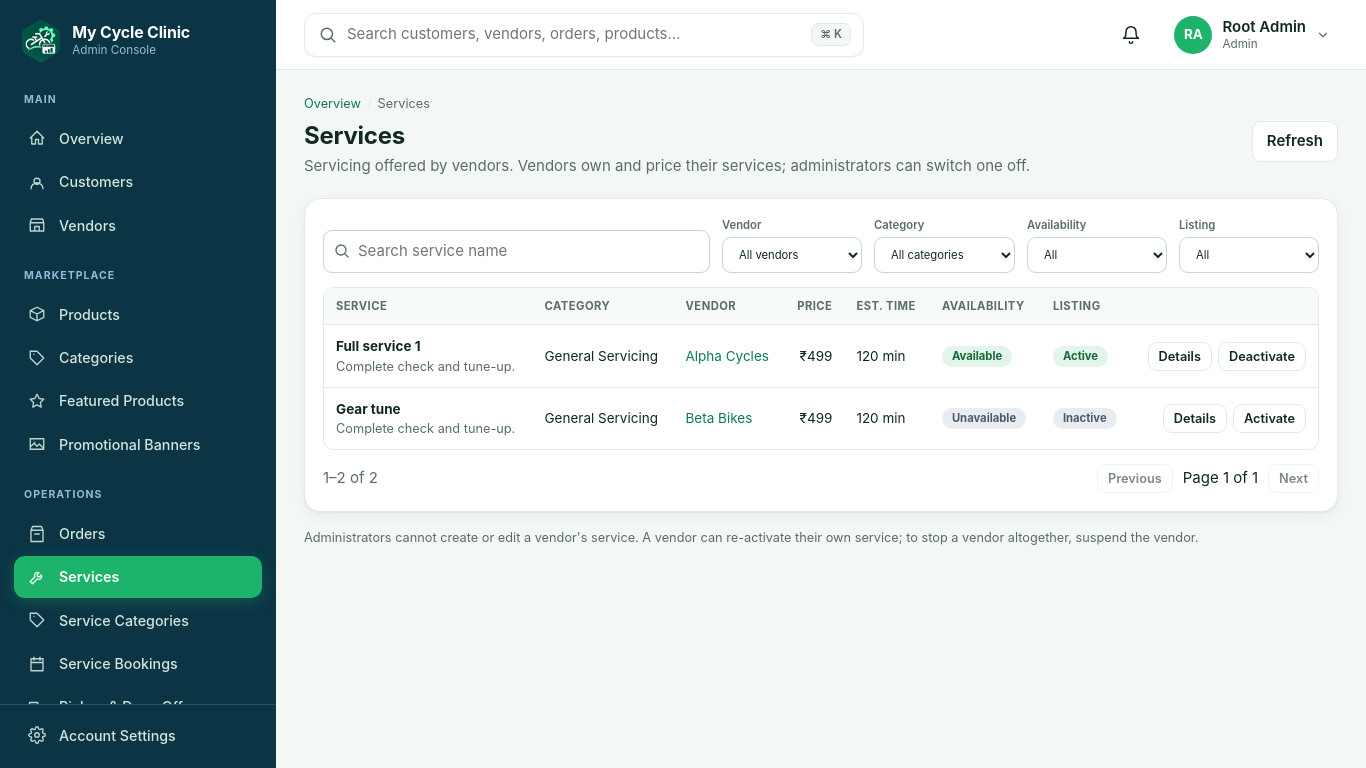
services › opens a details view
The image size is (1366, 768).
Step 1. Click the button "Details" in the row of "Full service 1" → (1180, 356), box [1148,342,1212,371]
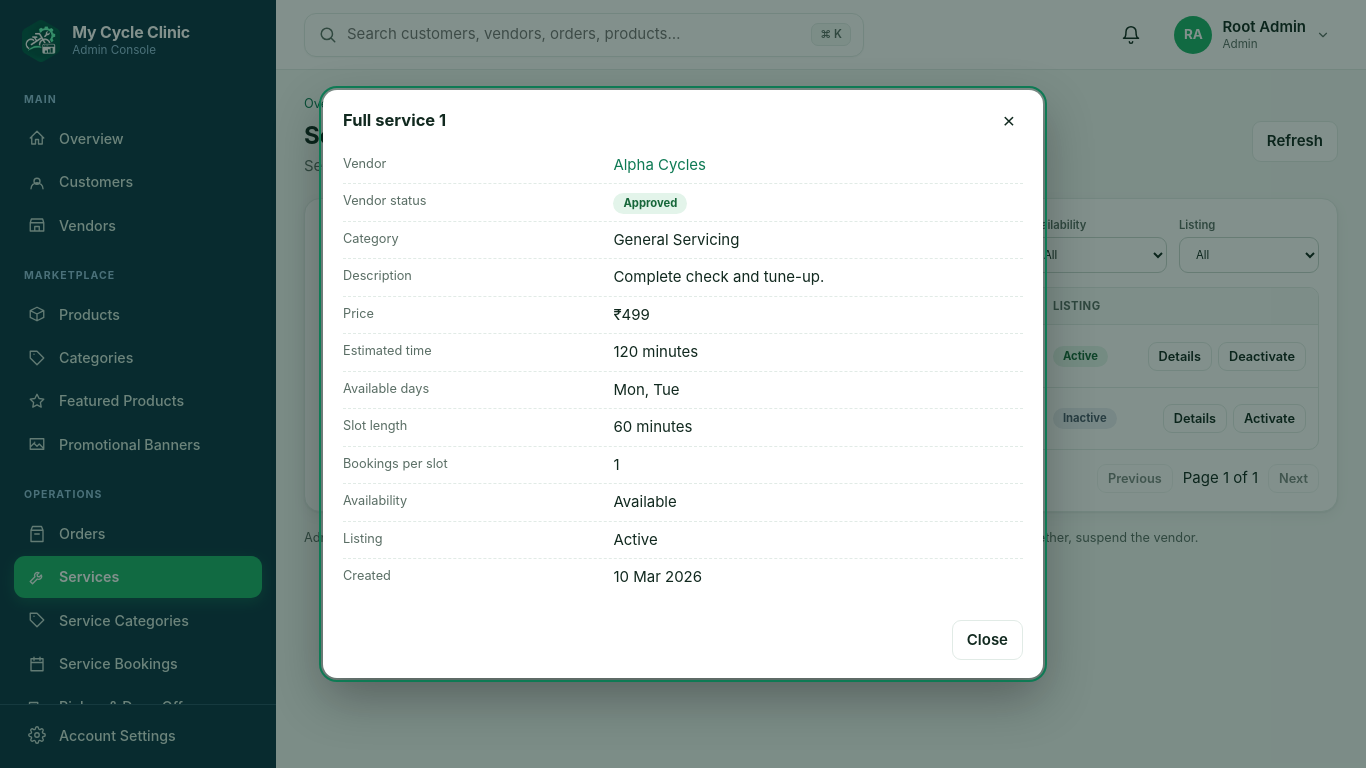
Expected: the text "Complete check and tune-up." is shown, [613,267,824,286]
Expected: the text "Mon, Tue" is shown, [613,380,680,399]
